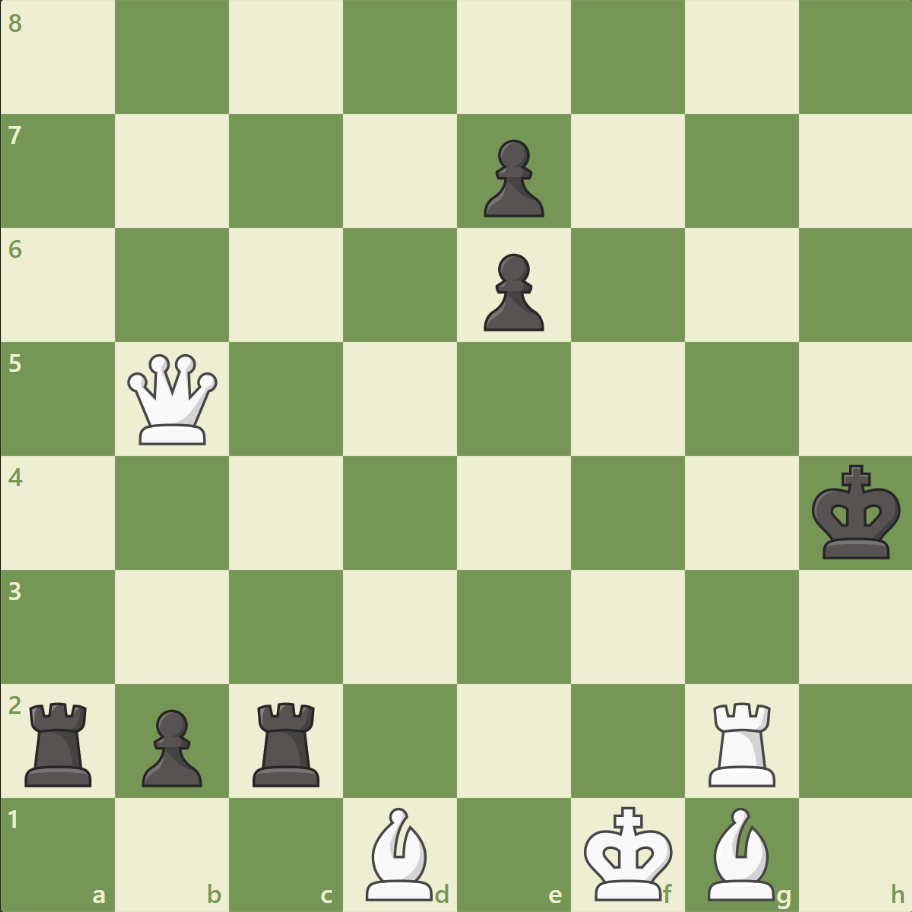B: (358, 801, 442, 904), (698, 801, 782, 904)
K: (579, 798, 679, 906)
Q: (124, 349, 223, 449)
R: (700, 693, 783, 790)
k: (806, 458, 906, 566)
p: (474, 132, 549, 223), (474, 246, 549, 337), (133, 700, 208, 791)
r: (19, 693, 102, 790), (246, 693, 329, 790)
